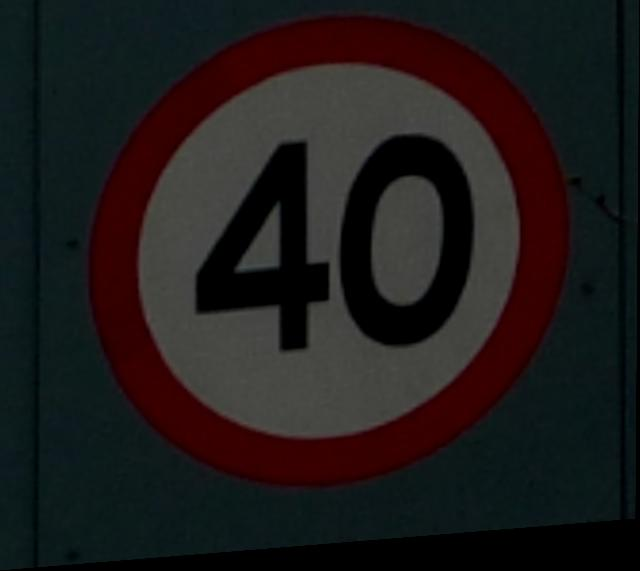limit40: (78, 0, 579, 513)
